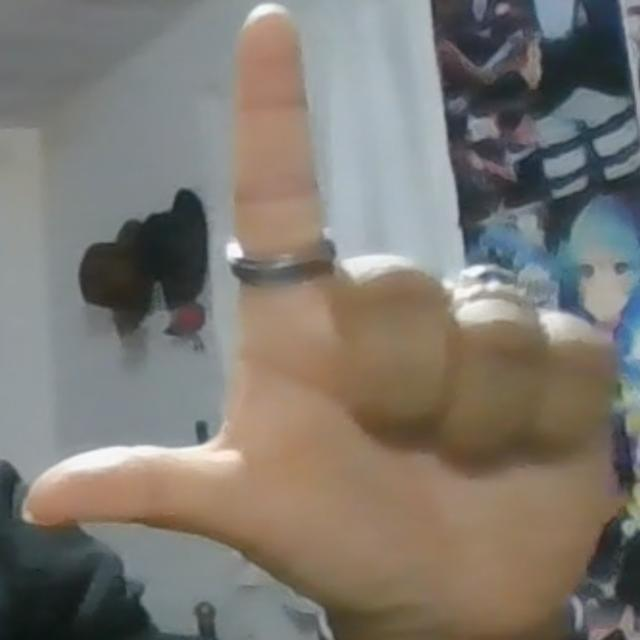LL: (15, 0, 628, 627)
